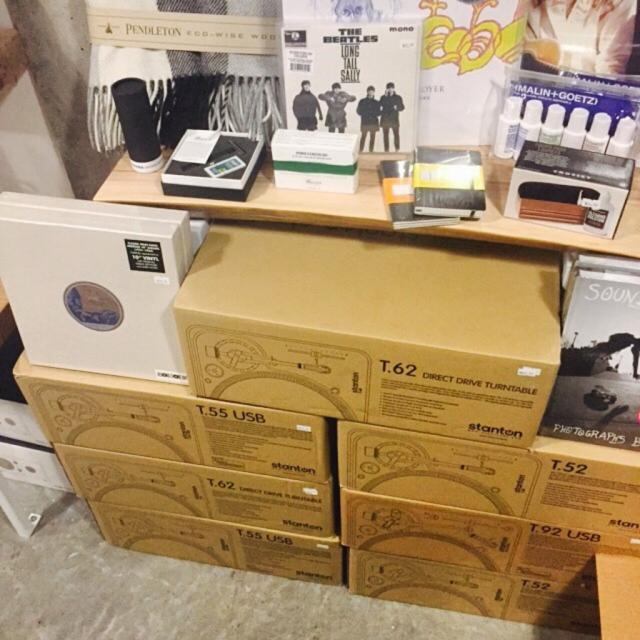desk: (91, 150, 639, 262)
